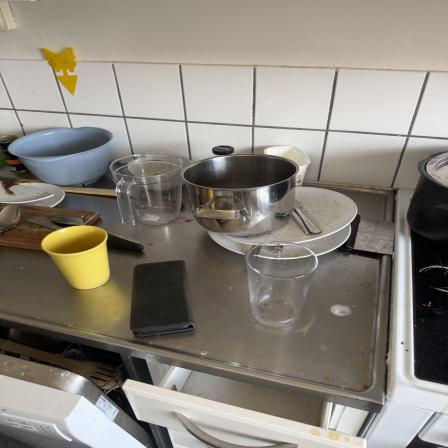phone: (130, 263, 198, 335)
yellow_cup: (41, 225, 111, 291)
